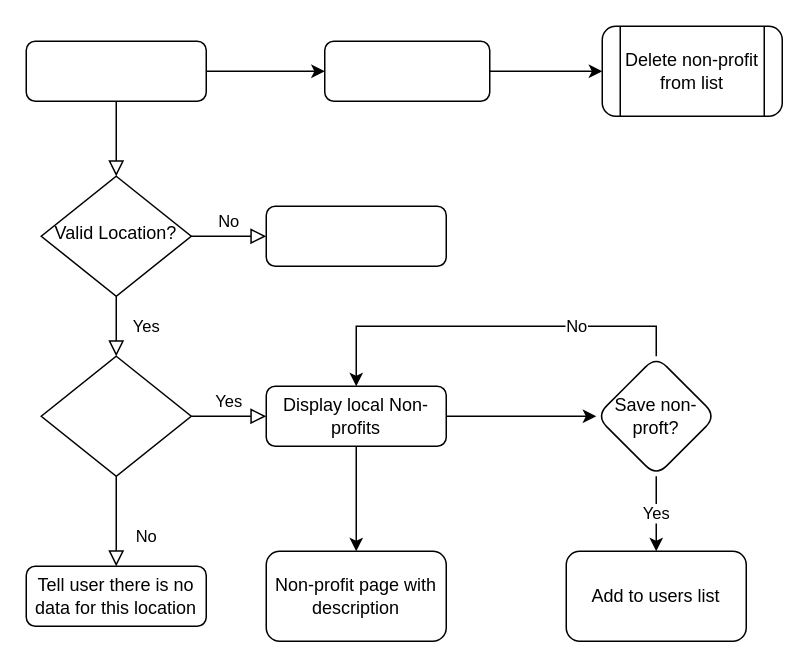
The diagram is 809 pixels wide and 668 high, and some of its shapes have lost their labels. Each missing label, with the box of its shape:
Data found?: (40, 355, 191, 476)
Homepage: (25, 40, 206, 101)
Tell user try valid location: (265, 205, 446, 266)
User Profile: (323, 40, 490, 101)
